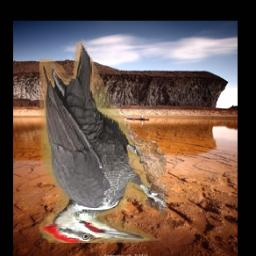Woodpecker: (40, 40, 167, 244)
